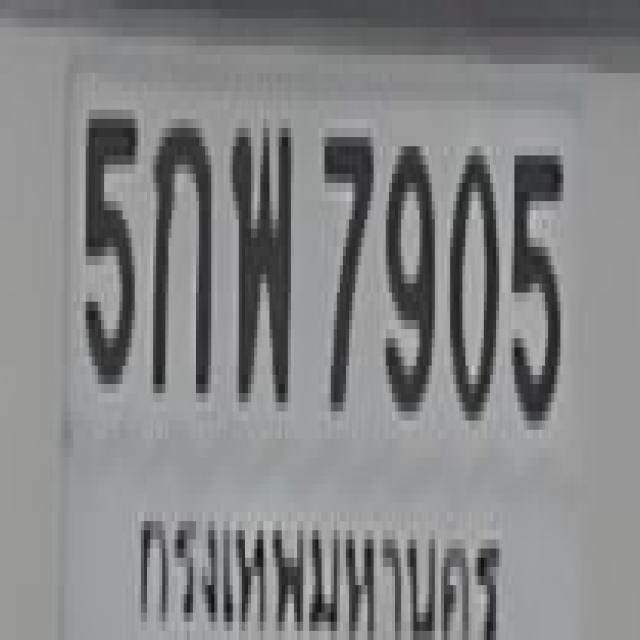-: (150, 110, 208, 384), (230, 119, 288, 393)
0: (447, 137, 496, 412)
5: (508, 146, 560, 421), (82, 100, 134, 375)
7: (322, 128, 371, 402)
9: (383, 137, 432, 402)
BKK: (126, 475, 508, 640)
